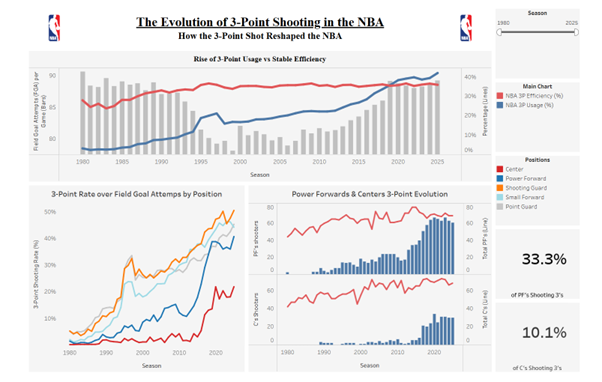

The dashboard page shown, as its layout file describes it:
{"tool":"tableau","page":{"name":"1","canvas":[1200,800],"ordinal":0},"visuals":[{"type":"image","param":"Image/vecteezy_nba-logo-png-nba-icon-transparent-png_27127448.png","box":[8,8,117.5,90]},{"type":"text","box":[125.5,8,761,90]},{"type":"image","param":"Image/vecteezy_nba-logo-png-nba-icon-transparent-png_27127448.png","box":[886.5,8,117.5,90]},{"type":"filter","title":"Evolution","param":"[federated.00hitc70hvxlqg125p1g30e4fgd5].[none:season:qk]","box":[1004,8,188,157]},{"type":"worksheet","title":"Evolution","mark":"Line","rows":["fg_attempts_per_game"],"cols":["season"],"box":[8,98,996,286.8]},{"type":"legend","title":"Evolution","param":"[federated.00hitc70hvxlqg125p1g30e4fgd5].[:Measure Names]","box":[1004,165,188,157]},{"type":"legend","title":"Positions","param":"[federated.00hitc70hvxlqg125p1g30e4fgd5].[none:pos:nk]","box":[1004,322,188,157]},{"type":"worksheet","title":"Positions","mark":"Line","rows":["three_rate"],"cols":["season"],"box":[8,384.8,465.5,407.2]},{"type":"worksheet","title":"PF & C","mark":"Bar","rows":["PF_shooters","total_PF","centers_shooters","total_centers"],"cols":["season"],"box":[473.5,384.8,530.5,407.2]},{"type":"worksheet","title":"%PF","mark":"Automatic","box":[1004,479,188,157]},{"type":"worksheet","title":"%C","mark":"Automatic","box":[1004,636,188,156]}]}

Visuals, with their boxes on the page's 1200x800 design canvas (x1, y1, x2, y2). These are canvas units, not pixel positions in the 602x382 screenshot, which may show the page scaled, cropped or inside an application window:
image: pyautogui.locateOnScreen(8, 8, 126, 98)
text: pyautogui.locateOnScreen(126, 8, 886, 98)
image: pyautogui.locateOnScreen(886, 8, 1004, 98)
"Evolution" filter: pyautogui.locateOnScreen(1004, 8, 1192, 165)
"Evolution" worksheet (Line marks): pyautogui.locateOnScreen(8, 98, 1004, 385)
"Evolution" legend: pyautogui.locateOnScreen(1004, 165, 1192, 322)
"Positions" legend: pyautogui.locateOnScreen(1004, 322, 1192, 479)
"Positions" worksheet (Line marks): pyautogui.locateOnScreen(8, 385, 474, 792)
"PF & C" worksheet (Bar marks): pyautogui.locateOnScreen(474, 385, 1004, 792)
"%PF" worksheet: pyautogui.locateOnScreen(1004, 479, 1192, 636)
"%C" worksheet: pyautogui.locateOnScreen(1004, 636, 1192, 792)
